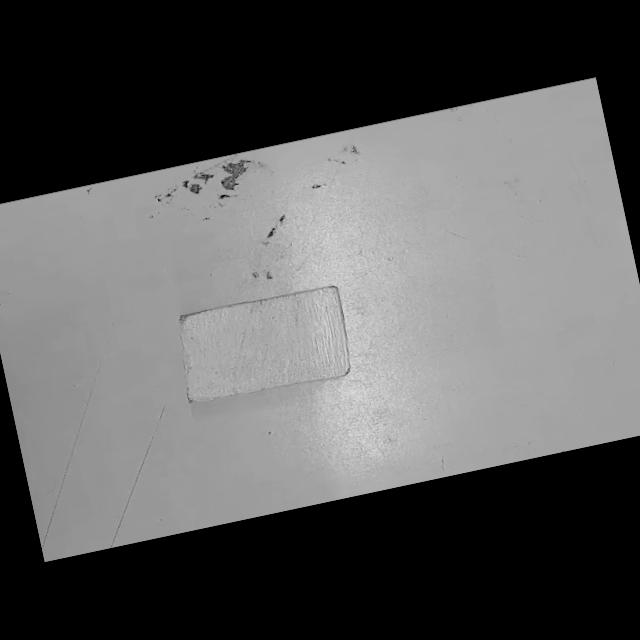ycube: (178, 286, 349, 402)
